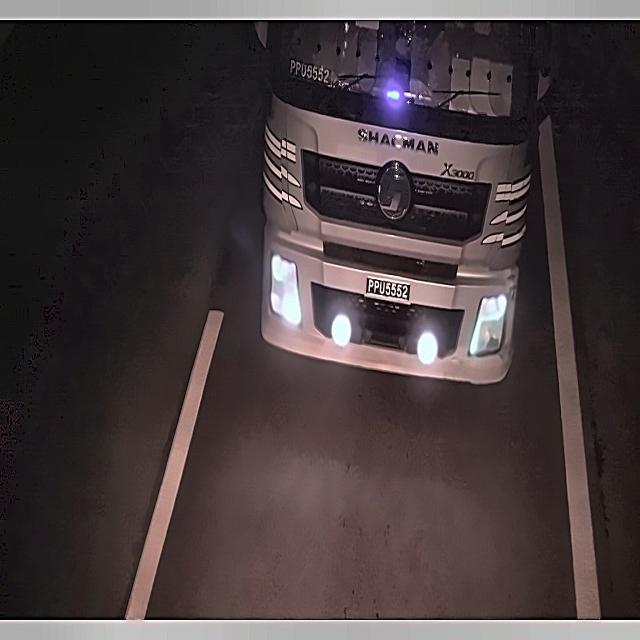car: (359, 265, 418, 308)
